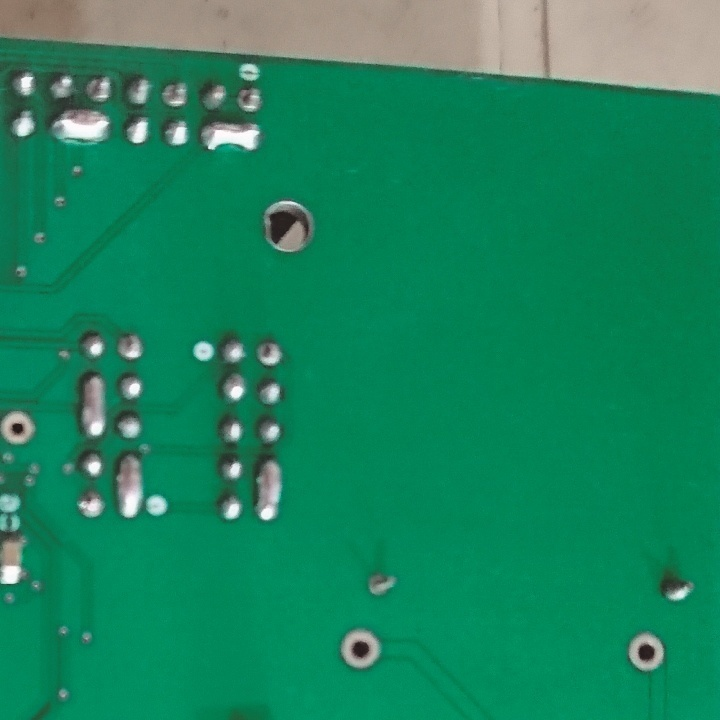F: (336, 625, 380, 670), (626, 630, 668, 675), (1, 406, 41, 447), (76, 486, 107, 524), (253, 339, 284, 372), (85, 74, 113, 107), (364, 571, 398, 598), (116, 335, 147, 364), (161, 80, 187, 110), (237, 83, 253, 113)
P: (255, 457, 290, 523), (77, 368, 109, 440), (200, 117, 260, 155), (51, 108, 110, 146), (117, 449, 144, 520)
